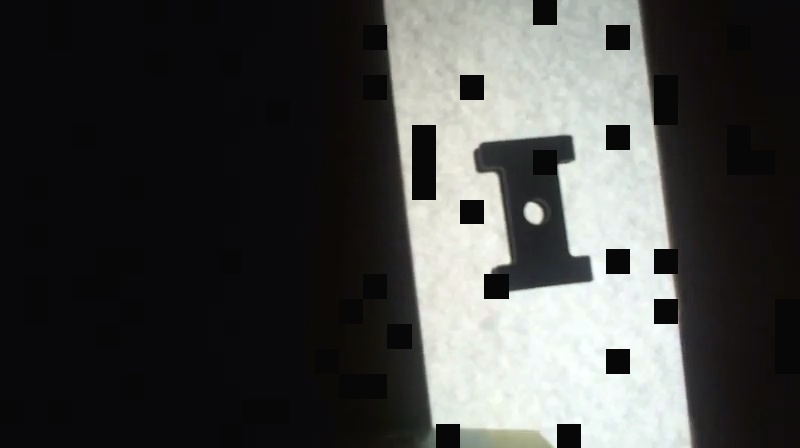O002: (473, 130, 598, 295)
